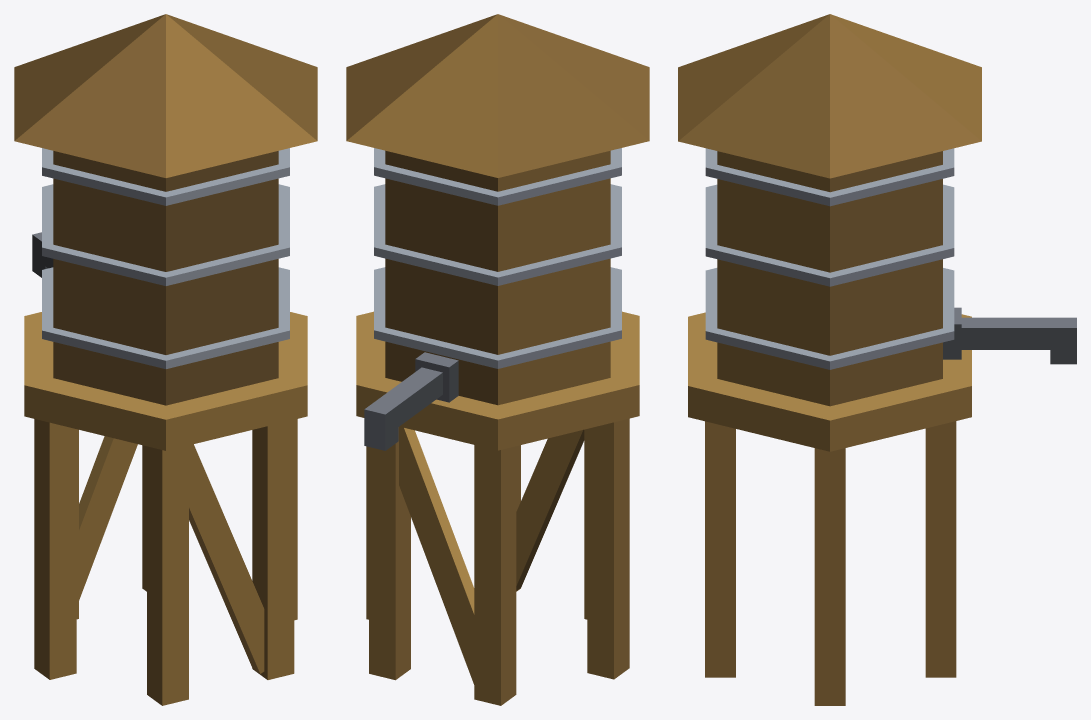
File: Prop_Water_Tower.glb
3 renders of one model, left to right at view 1: azimuth 30°, elevation 25°; view 2: azimuth 150°, elevation 25°; view 3: azimuth 270°, elevation 25°, orthographic.
Parts seen in each view (by area): view 1: Prop_Water_Tower; view 2: Prop_Water_Tower; view 3: Prop_Water_Tower.
Boxes of the visible parts, box(x1,y1,x2,y2) form: Prop_Water_Tower: box(14, 14, 317, 705); Prop_Water_Tower: box(346, 14, 649, 705); Prop_Water_Tower: box(678, 14, 1076, 705).
Bounding box in the file's own units: 2.65 × 5.26 × 3.01.
Materials: 1 (1 with a texture image).
